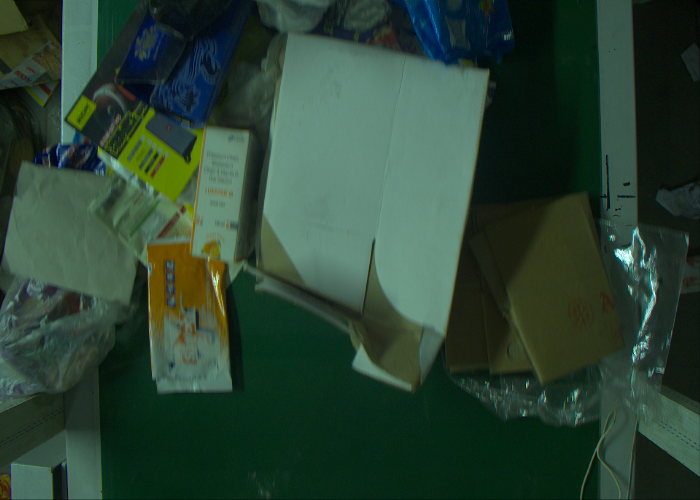cardboard: (264, 42, 475, 391), (444, 195, 600, 372), (69, 31, 193, 197), (123, 1, 249, 111), (189, 125, 255, 273)
hm_ldpe: (598, 210, 686, 428)
ldpe_wrapper: (148, 244, 236, 393)
paper: (13, 168, 137, 303)
pp_w: (408, 1, 518, 61)
